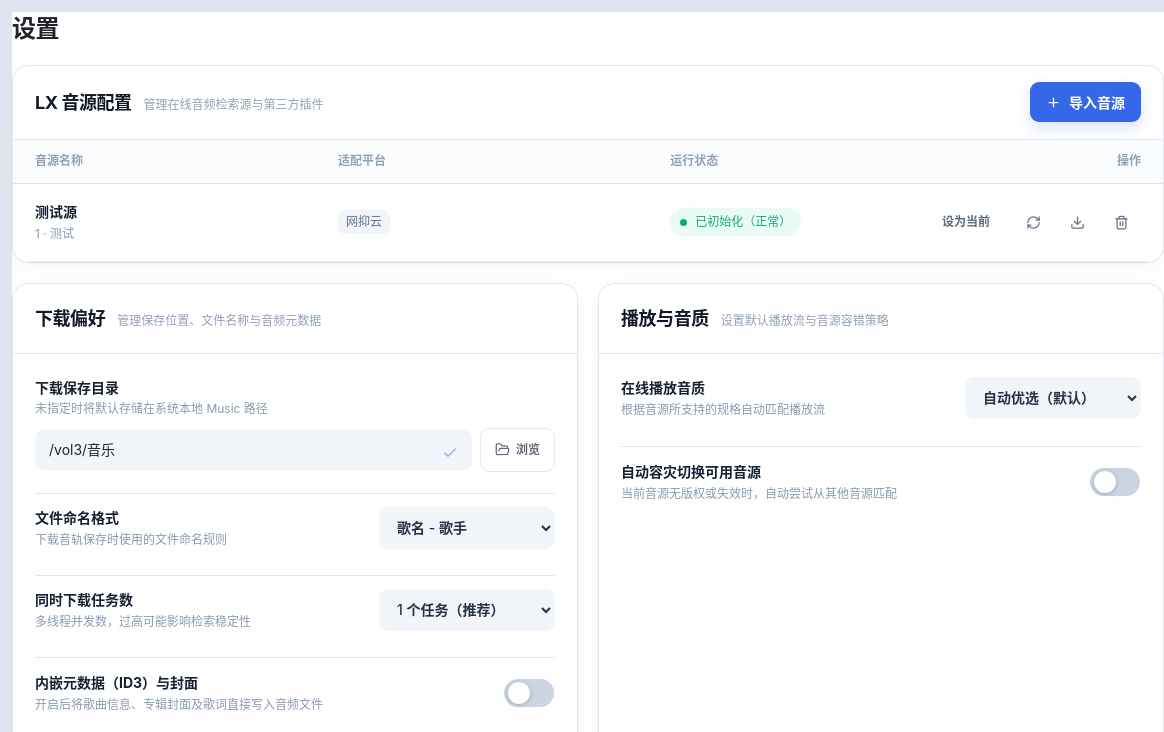
it: v5 LX 紧凑行与失败反馈 › 设为当前失败保留目标和短错误，点击重试成功后才显示使用中
Check: the dropdown labelled "文件命名格式" is shown, box [379,507,555,549]
Click the button "设为当前": (966, 222) [923,202,1009,242]
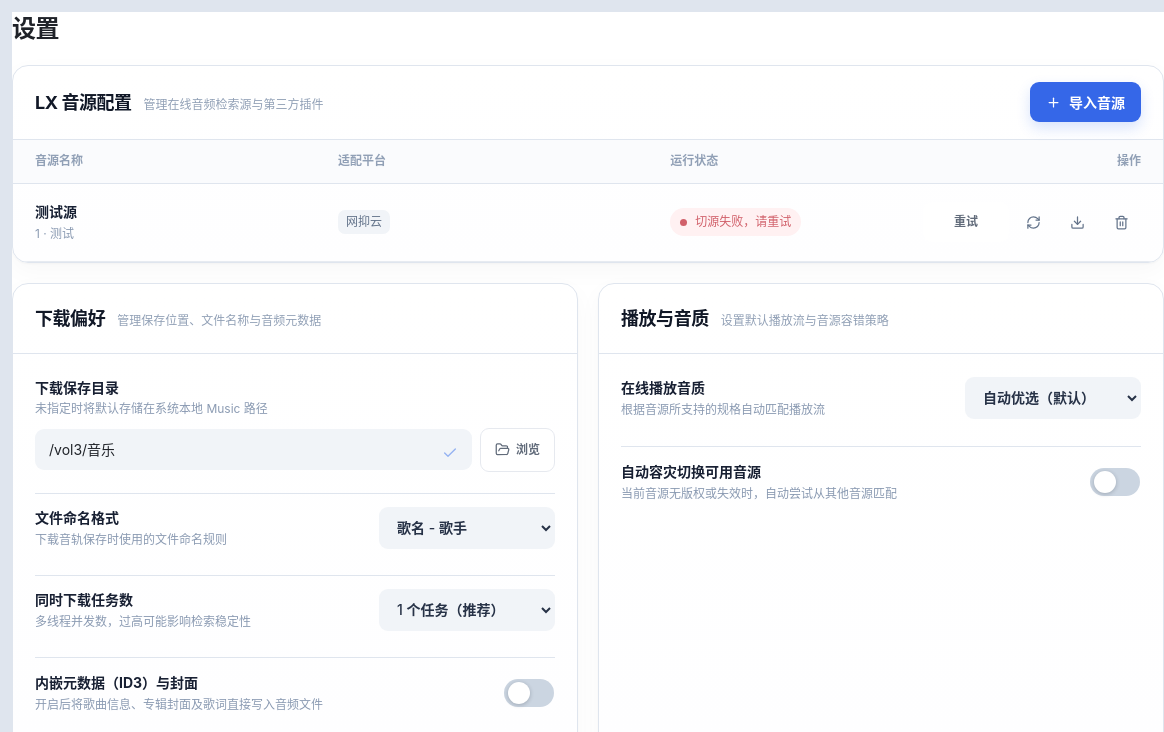
Check: the button "使用中" is not shown
Check: the text "切源失败，请重试" is shown, box [670,208,801,236]
Click the button with aria-label "重试音源 测试源": (966, 222) [923,202,1009,242]
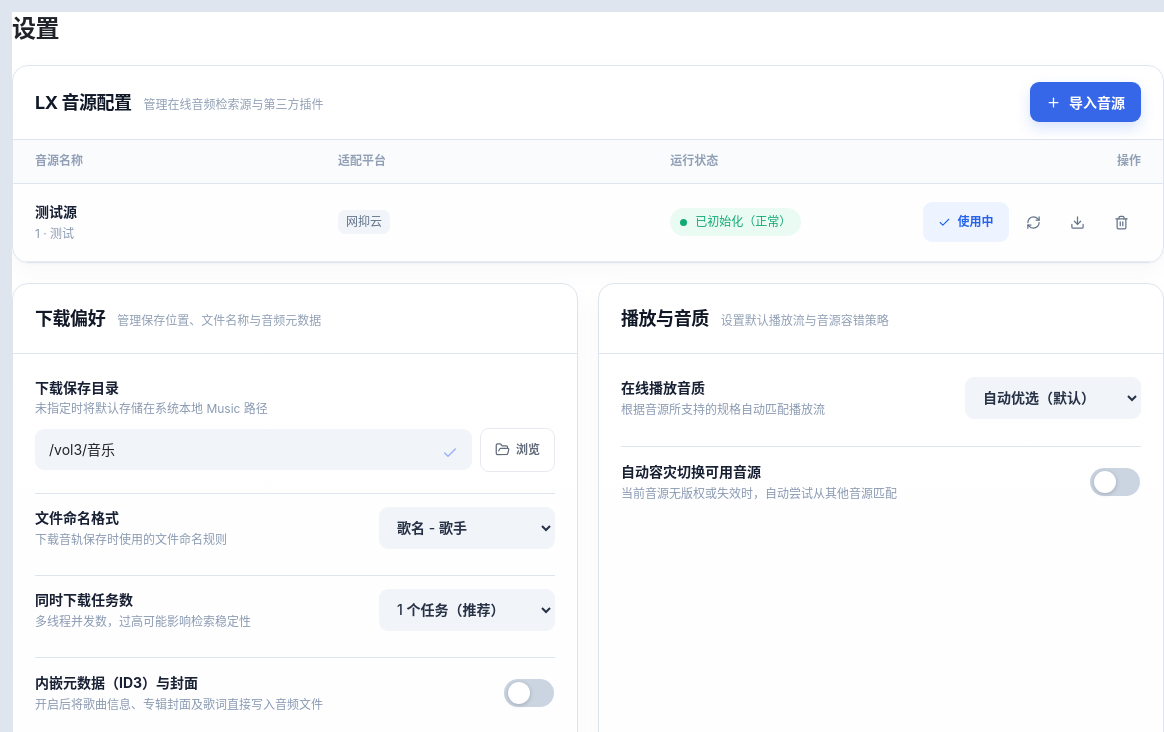
Check: the button "使用中" is shown, box [923,202,1009,242]
